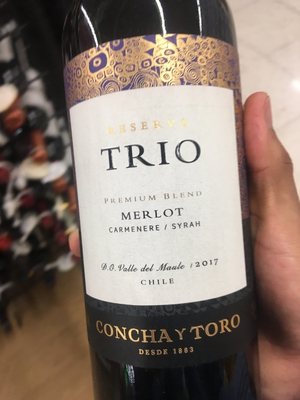trio merlot: (47, 13, 271, 400)
